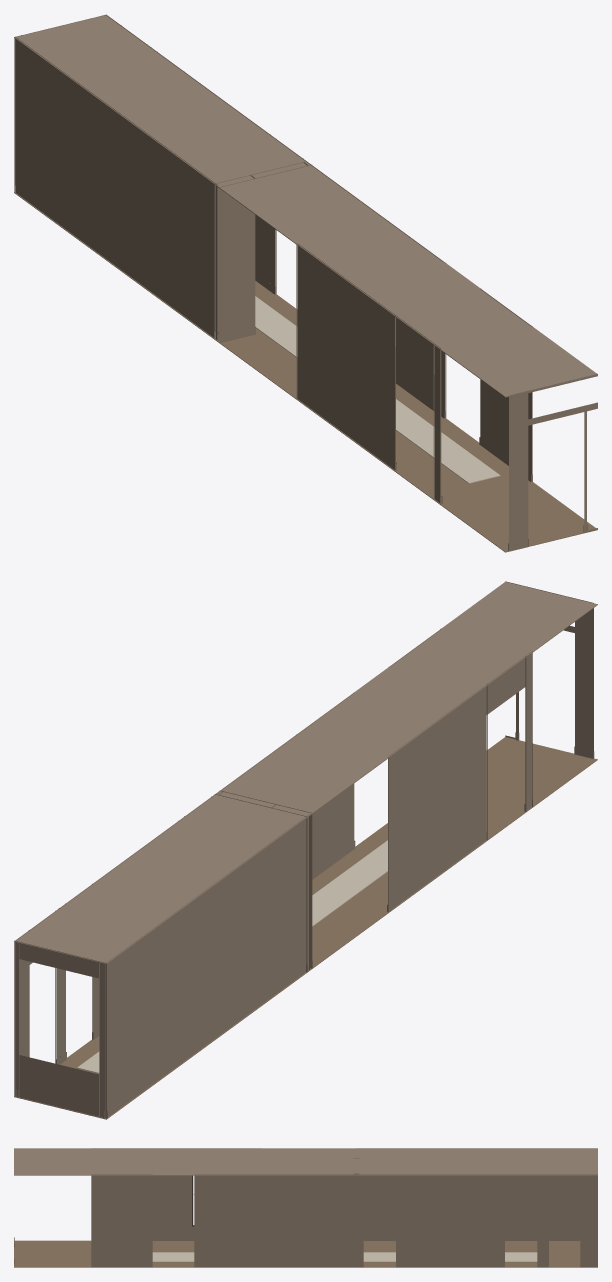
File: corridor-1.glb
The picture shows the model from 3 angles, top to bottom: view 1: azimuth 30°, elevation 25°; view 2: azimuth 150°, elevation 25°; view 3: azimuth 270°, elevation 25°; orthographic projection. The views are drawn at different scales.
Parts seen in each view (by area): view 1: DESIGN | corridor removable wall finish, DESIGN | corridor ceiling finish, DESIGN | corridor floor finish, DESIGN | Cedar gallery wool path; view 2: DESIGN | corridor removable wall finish, DESIGN | corridor ceiling finish, DESIGN | corridor floor finish, DESIGN | Cedar gallery wool path; view 3: DESIGN | corridor removable wall finish, DESIGN | corridor ceiling finish, DESIGN | corridor floor finish, DESIGN | Cedar gallery wool path.
Part boxes in pixels (<box>): DESIGN | corridor removable wall finish: <box>14,14,597,550</box>; DESIGN | corridor ceiling finish: <box>14,15,597,397</box>; DESIGN | corridor floor finish: <box>14,192,597,552</box>; DESIGN | Cedar gallery wool path: <box>255,296,500,483</box>; DESIGN | corridor removable wall finish: <box>14,581,594,1118</box>; DESIGN | corridor ceiling finish: <box>14,582,597,964</box>; DESIGN | corridor floor finish: <box>14,737,597,1119</box>; DESIGN | Cedar gallery wool path: <box>77,840,387,1073</box>; DESIGN | corridor removable wall finish: <box>14,1148,597,1267</box>; DESIGN | corridor ceiling finish: <box>14,1148,597,1175</box>; DESIGN | corridor floor finish: <box>14,1240,597,1267</box>; DESIGN | Cedar gallery wool path: <box>152,1252,537,1261</box>.
Bounding box in the file's own units: 1.7 × 2.74 × 15.63.
